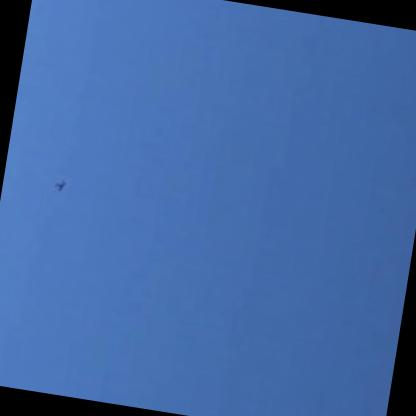plane: (53, 179, 64, 194)
